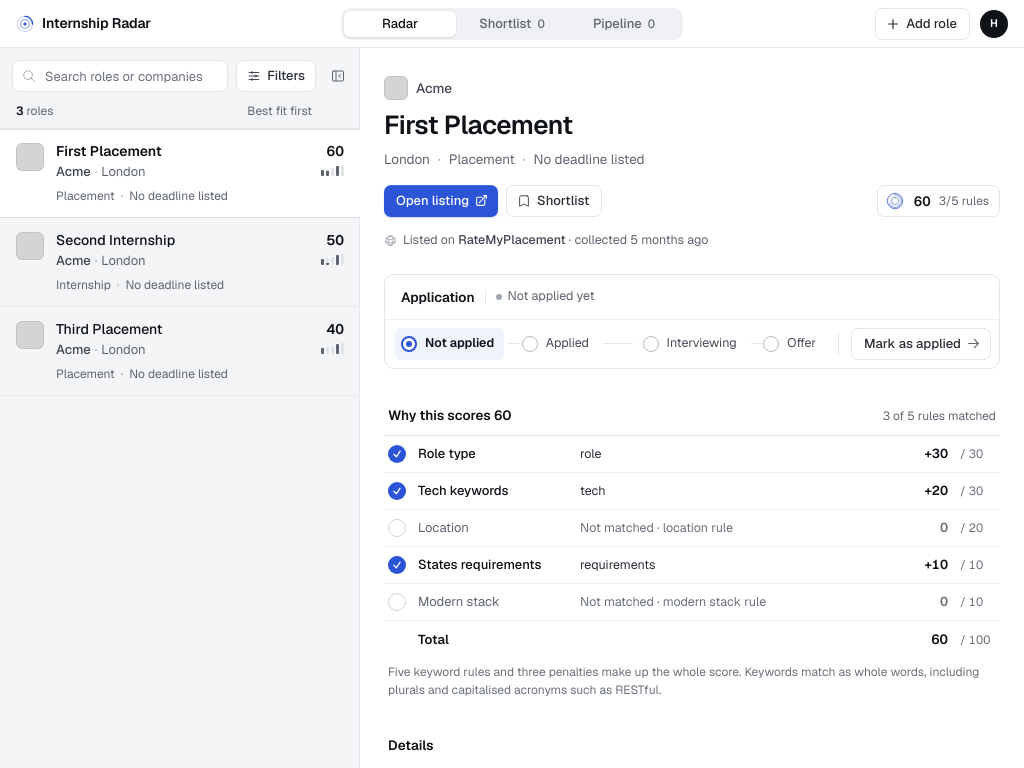
Scenario: URL and selection › selection and view are written to the URL, and a reload restores them
Click the button with aria-label "Second Internship" at (116, 240), box x1=0 y1=218 x2=360 y2=306
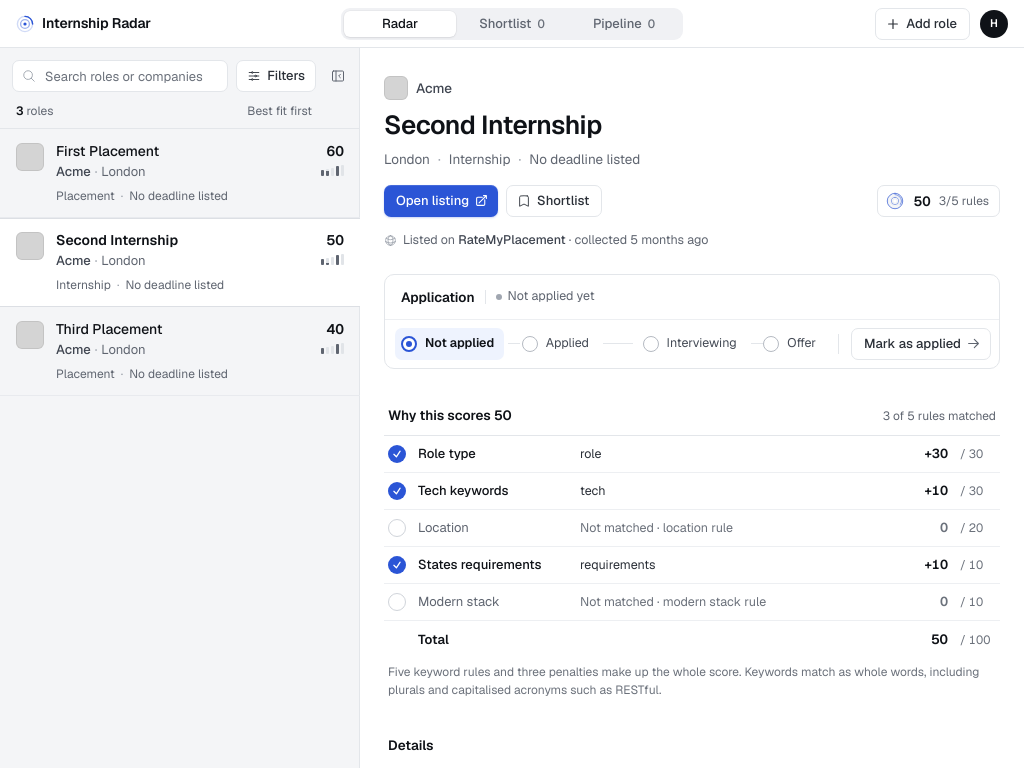
Check: the text "Second Internship" is shown, box x1=56 y1=231 x2=178 y2=249
Click the button "Pipeline 0" at (624, 24), box x1=568 y1=10 x2=680 y2=36
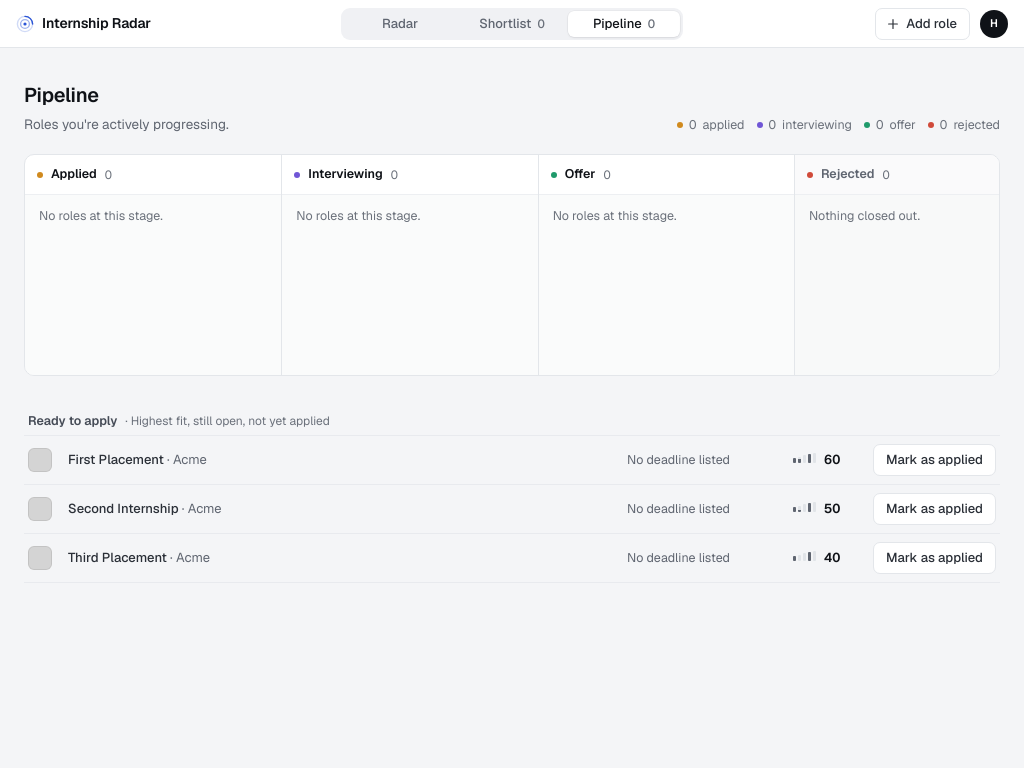
Check: the heading "Pipeline" is shown, box x1=24 y1=82 x2=99 y2=108
Click the button "Radar" at (400, 24), box x1=344 y1=10 x2=456 y2=36
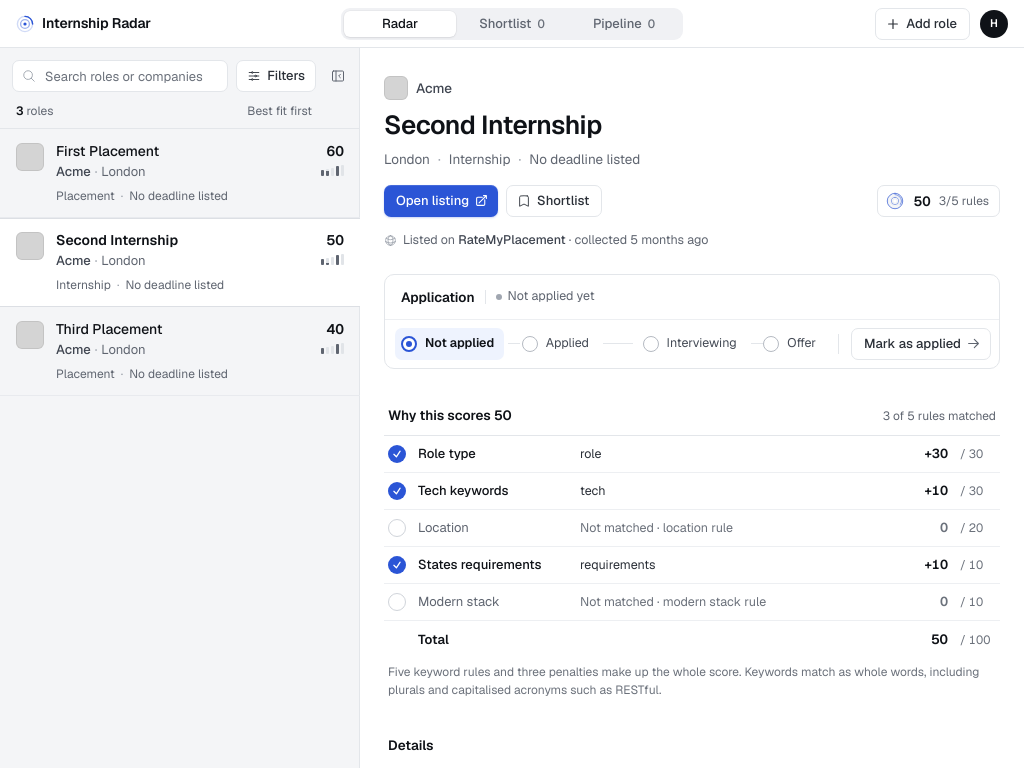
Check: the text "Second Internship" is shown, box x1=56 y1=231 x2=178 y2=249
